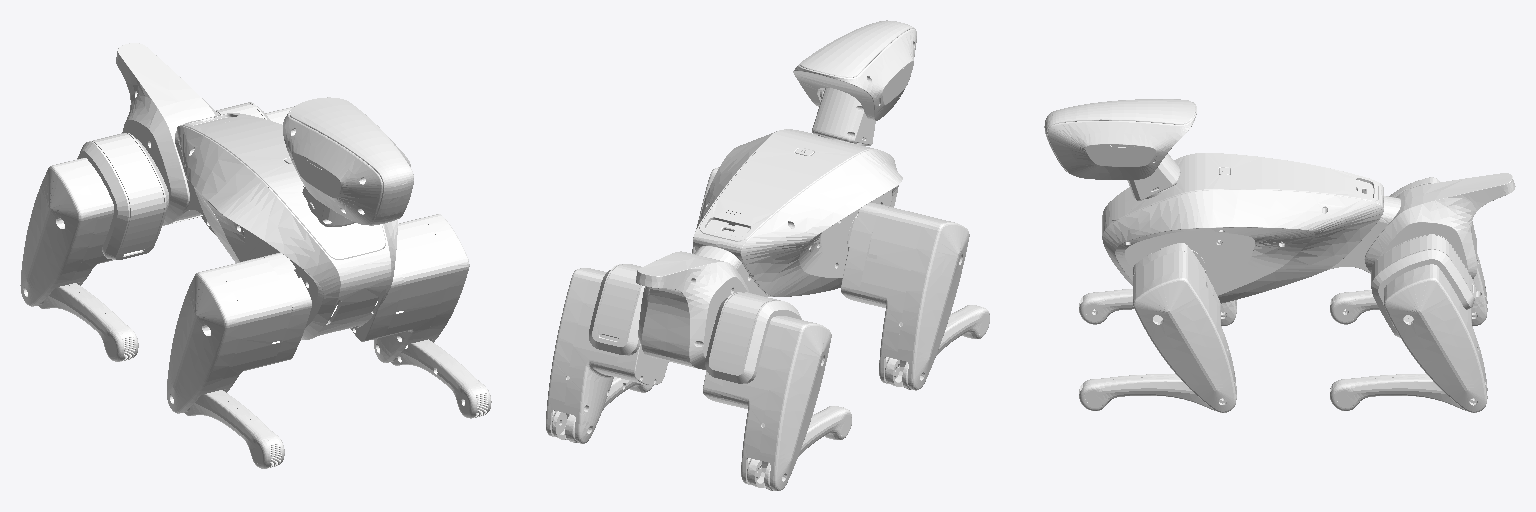
The robot description file, URDF, robot "xrrobot_urdf":
<?xml version="1.0" encoding="utf-8"?>
<!-- This URDF was automatically created by SolidWorks to URDF Exporter! Originally created by Stephen Brawner (brawner@gmail.com) 
     Commit Version: 1.6.0-1-g15f4949  Build Version: 1.6.7594.29634
     For more information, please see http://wiki.ros.org/sw_urdf_exporter -->
<robot
  name="xrrobot_urdf">
  <link
    name="base_link">
    <inertial>
      <origin
        xyz="-4.4622E-05 0.022396 0.035752"
        rpy="0 0 0" />
      <mass
        value="0.2237" />
      <inertia
        ixx="0.001358"
        ixy="1.139E-07"
        ixz="-1.5357E-07"
        iyy="0.0012656"
        iyz="4.9886E-05"
        izz="0.00016835" />
    </inertial>
    <visual>
      <origin
        xyz="0 0 0"
        rpy="0 0 0" />
      <geometry>
        <mesh
          filename="package://xrrobot_urdf/meshes/base_link.STL" />
      </geometry>
      <material
        name="">
        <color
          rgba="1 1 1 1" />
      </material>
    </visual>
    <collision>
      <origin
        xyz="0 0 0"
        rpy="0 0 0" />
      <geometry>
        <mesh
          filename="package://xrrobot_urdf/meshes/base_link.STL" />
      </geometry>
    </collision>
  </link>
  <link
    name="Head_Yaw_link">
    <inertial>
      <origin
        xyz="0.00099935 0.034069 0.017518"
        rpy="0 0 0" />
      <mass
        value="0.020008" />
      <inertia
        ixx="4.5406E-06"
        ixy="5.5818E-09"
        ixz="9.421E-09"
        iyy="2.5723E-06"
        iyz="-4.3346E-07"
        izz="3.182E-06" />
    </inertial>
    <visual>
      <origin
        xyz="0 0 0"
        rpy="0 0 0" />
      <geometry>
        <mesh
          filename="package://xrrobot_urdf/meshes/Head_Yaw_link.STL" />
      </geometry>
      <material
        name="">
        <color
          rgba="1 1 1 1" />
      </material>
    </visual>
    <collision>
      <origin
        xyz="0 0 0"
        rpy="0 0 0" />
      <geometry>
        <mesh
          filename="package://xrrobot_urdf/meshes/Head_Yaw_link.STL" />
      </geometry>
    </collision>
  </link>
  <joint
    name="Head_Yaw_joint"
    type="revolute">
    <origin
      xyz="0 -0.11149 0.038026"
      rpy="1.5708 -0.0022105 0.004335" />
    <parent
      link="base_link" />
    <child
      link="Head_Yaw_link" />
    <axis
      xyz="0 -0.89086 -0.45427" />
    <limit
      lower="-1.57"
      upper="1.57"
      effort="10"
      velocity="5" />
  </joint>
  <link
    name="Head_Pitch_link">
    <inertial>
      <origin
        xyz="0.00050757 0.01521 0.014038"
        rpy="0 0 0" />
      <mass
        value="0.046867" />
      <inertia
        ixx="4.8561E-05"
        ixy="-2.5812E-08"
        ixz="2.4004E-07"
        iyy="4.2536E-05"
        iyz="6.2297E-06"
        izz="1.1693E-05" />
    </inertial>
    <visual>
      <origin
        xyz="0 0 0"
        rpy="0 0 0" />
      <geometry>
        <mesh
          filename="package://xrrobot_urdf/meshes/Head_Pitch_link.STL" />
      </geometry>
      <material
        name="">
        <color
          rgba="1 1 1 1" />
      </material>
    </visual>
    <collision>
      <origin
        xyz="0 0 0"
        rpy="0 0 0" />
      <geometry>
        <mesh
          filename="package://xrrobot_urdf/meshes/Head_Pitch_link.STL" />
      </geometry>
    </collision>
  </link>
  <joint
    name="Head_Pitch_joint"
    type="revolute">
    <origin
      xyz="0 0.044108 0.022492"
      rpy="0.04421 -0.00010192 0.00018941" />
    <parent
      link="Head_Yaw_link" />
    <child
      link="Head_Pitch_link" />
    <axis
      xyz="-0.99999 0.0022105 -0.0043349" />
    <limit
      lower="-1.57"
      upper="1.57"
      effort="10"
      velocity="5" />
  </joint>
  <link
    name="Shoulder_FL_link">
    <inertial>
      <origin
        xyz="0.046894 -0.022185 -0.0050405"
        rpy="0 0 0" />
      <mass
        value="0.058539" />
      <inertia
        ixx="5.8271E-05"
        ixy="1.7661E-06"
        ixz="7.8155E-07"
        iyy="2.723E-05"
        iyz="-1.661E-05"
        izz="3.6507E-05" />
    </inertial>
    <visual>
      <origin
        xyz="0 0 0"
        rpy="0 0 0" />
      <geometry>
        <mesh
          filename="package://xrrobot_urdf/meshes/Shoulder_FL_link.STL" />
      </geometry>
      <material
        name="">
        <color
          rgba="1 1 1 1" />
      </material>
    </visual>
    <collision>
      <origin
        xyz="0 0 0"
        rpy="0 0 0" />
      <geometry>
        <mesh
          filename="package://xrrobot_urdf/meshes/Shoulder_FL_link.STL" />
      </geometry>
    </collision>
  </link>
  <joint
    name="Shoulder_FL_joint"
    type="revolute">
    <origin
      xyz="0.013 -0.10196 0"
      rpy="1.4149 0 0" />
    <parent
      link="base_link" />
    <child
      link="Shoulder_FL_link" />
    <axis
      xyz="-1 0 0" />
    <limit
      lower="-1.57"
      upper="1.57"
      effort="10"
      velocity="5" />
  </joint>
  <link
    name="Knee_FL_link">
    <inertial>
      <origin
        xyz="0.0084814 -0.029397 0.043987"
        rpy="0 0 0" />
      <mass
        value="0.015497" />
      <inertia
        ixx="1.2745E-05"
        ixy="-9.1522E-09"
        ixz="1.405E-08"
        iyy="8.6681E-06"
        iyz="5.4591E-06"
        izz="4.2696E-06" />
    </inertial>
    <visual>
      <origin
        xyz="0 0 0"
        rpy="0 0 0" />
      <geometry>
        <mesh
          filename="package://xrrobot_urdf/meshes/Knee_FL_link.STL" />
      </geometry>
      <material
        name="">
        <color
          rgba="1 1 1 1" />
      </material>
    </visual>
    <collision>
      <origin
        xyz="0 0 0"
        rpy="0 0 0" />
      <geometry>
        <mesh
          filename="package://xrrobot_urdf/meshes/Knee_FL_link.STL" />
      </geometry>
    </collision>
  </link>
  <joint
    name="Knee_FL_joint"
    type="revolute">
    <origin
      xyz="0.051997 -0.070165 -0.039773"
      rpy="-0.47182 0 0" />
    <parent
      link="Shoulder_FL_link" />
    <child
      link="Knee_FL_link" />
    <axis
      xyz="1 0 0" />
    <limit
      lower="-1.57"
      upper="1.57"
      effort="10"
      velocity="5" />
  </joint>
  <link
    name="Shoulder_FR_link">
    <inertial>
      <origin
        xyz="-0.0449236006183859 -0.0224986053538585 -0.00469599283447582"
        rpy="0 0 0" />
      <mass
        value="0.0556031458340423" />
      <inertia
        ixx="5.81147928859559E-05"
        ixy="-1.76677707483314E-06"
        ixz="-7.786838038114E-07"
        iyy="2.70758799340584E-05"
        iyz="-1.65790587552092E-05"
        izz="3.64475444620114E-05" />
    </inertial>
    <visual>
      <origin
        xyz="0 0 0"
        rpy="0 0 0" />
      <geometry>
        <mesh
          filename="package://xrrobot_urdf/meshes/Shoulder_FR_link.STL" />
      </geometry>
      <material
        name="">
        <color
          rgba="1 1 1 1" />
      </material>
    </visual>
    <collision>
      <origin
        xyz="0 0 0"
        rpy="0 0 0" />
      <geometry>
        <mesh
          filename="package://xrrobot_urdf/meshes/Shoulder_FR_link.STL" />
      </geometry>
    </collision>
  </link>
  <joint
    name="Shoulder_FR_joint"
    type="revolute">
    <origin
      xyz="-0.016 -0.10196 0"
      rpy="1.4163 0 0" />
    <parent
      link="base_link" />
    <child
      link="Shoulder_FR_link" />
    <axis
      xyz="1 0 0" />
    <limit
      lower="-1.57"
      upper="1.57"
      effort="10"
      velocity="5" />
  </joint>
  <link
    name="Knee_FR_link">
    <inertial>
      <origin
        xyz="-0.0084817 -0.052906 -0.00022614"
        rpy="0 0 0" />
      <mass
        value="0.015497" />
      <inertia
        ixx="1.2745E-05"
        ixy="1.6569E-08"
        ixz="-1.0757E-10"
        iyy="5.8413E-07"
        iyz="-1.068E-07"
        izz="1.2353E-05" />
    </inertial>
    <visual>
      <origin
        xyz="0 0 0"
        rpy="0 0 0" />
      <geometry>
        <mesh
          filename="package://xrrobot_urdf/meshes/Knee_FR_link.STL" />
      </geometry>
      <material
        name="">
        <color
          rgba="1 1 1 1" />
      </material>
    </visual>
    <collision>
      <origin
        xyz="0 0 0"
        rpy="0 0 0" />
      <geometry>
        <mesh
          filename="package://xrrobot_urdf/meshes/Knee_FR_link.STL" />
      </geometry>
    </collision>
  </link>
  <joint
    name="Knee_FR_joint"
    type="revolute">
    <origin
      xyz="-0.048997 -0.070221 -0.039675"
      rpy="-1.4592 0 0" />
    <parent
      link="Shoulder_FR_link" />
    <child
      link="Knee_FR_link" />
    <axis
      xyz="-1 0 0" />
    <limit
      lower="-1.57"
      upper="1.57"
      effort="10"
      velocity="5" />
  </joint>
  <link
    name="Shoulder_BR_link">
    <inertial>
      <origin
        xyz="-0.041045 -0.014386 0.0098853"
        rpy="0 0 0" />
      <mass
        value="0.071938" />
      <inertia
        ixx="7.3852E-05"
        ixy="-1.8942E-06"
        ixz="4.3529E-07"
        iyy="2.6531E-05"
        iyz="-9.9592E-08"
        izz="5.6669E-05" />
    </inertial>
    <visual>
      <origin
        xyz="0 0 0"
        rpy="0 0 0" />
      <geometry>
        <mesh
          filename="package://xrrobot_urdf/meshes/Shoulder_BR_link.STL" />
      </geometry>
      <material
        name="">
        <color
          rgba="1 1 1 1" />
      </material>
    </visual>
    <collision>
      <origin
        xyz="0 0 0"
        rpy="0 0 0" />
      <geometry>
        <mesh
          filename="package://xrrobot_urdf/meshes/Shoulder_BR_link.STL" />
      </geometry>
    </collision>
  </link>
  <joint
    name="Shoulder_BR_joint"
    type="revolute">
    <origin
      xyz="-0.016 0.078042 0"
      rpy="2.058 0 0" />
    <parent
      link="base_link" />
    <child
      link="Shoulder_BR_link" />
    <axis
      xyz="1 0 0" />
    <limit
      lower="-1.57"
      upper="1.57"
      effort="10"
      velocity="5" />
  </joint>
  <link
    name="Knee_BR_link">
    <inertial>
      <origin
        xyz="-0.0084817 -0.052906 -0.00022614"
        rpy="0 0 0" />
      <mass
        value="0.015497" />
      <inertia
        ixx="1.2745E-05"
        ixy="1.6568E-08"
        ixz="-1.075E-10"
        iyy="5.8413E-07"
        iyz="-1.068E-07"
        izz="1.2353E-05" />
    </inertial>
    <visual>
      <origin
        xyz="0 0 0"
        rpy="0 0 0" />
      <geometry>
        <mesh
          filename="package://xrrobot_urdf/meshes/Knee_BR_link.STL" />
      </geometry>
      <material
        name="">
        <color
          rgba="1 1 1 1" />
      </material>
    </visual>
    <collision>
      <origin
        xyz="0 0 0"
        rpy="0 0 0" />
      <geometry>
        <mesh
          filename="package://xrrobot_urdf/meshes/Knee_BR_link.STL" />
      </geometry>
    </collision>
  </link>
  <joint
    name="Knee_BR_joint"
    type="revolute">
    <origin
      xyz="-0.048997 -0.08 0.01025"
      rpy="-2.1009 0 0" />
    <parent
      link="Shoulder_BR_link" />
    <child
      link="Knee_BR_link" />
    <axis
      xyz="-1 0 0" />
    <limit
      lower="-1.57"
      upper="1.57"
      effort="10"
      velocity="5" />
  </joint>
  <link
    name="Shoulder_BL_link">
    <inertial>
      <origin
        xyz="0 0 0"
        rpy="0 0 0" />
      <mass
        value="0" />
      <inertia
        ixx="0"
        ixy="0"
        ixz="0"
        iyy="0"
        iyz="0"
        izz="0" />
    </inertial>
    <visual>
      <origin
        xyz="0 0 0"
        rpy="0 0 0" />
      <geometry>
        <mesh
          filename="package://xrrobot_urdf/meshes/Shoulder_BL_link.STL" />
      </geometry>
      <material
        name="">
        <color
          rgba="1 1 1 1" />
      </material>
    </visual>
    <collision>
      <origin
        xyz="0 0 0"
        rpy="0 0 0" />
      <geometry>
        <mesh
          filename="package://xrrobot_urdf/meshes/Shoulder_BL_link.STL" />
      </geometry>
    </collision>
  </link>
  <joint
    name="Shoulder_BL_joint"
    type="revolute">
    <origin
      xyz="0.016 0.078042 0"
      rpy="1.3383 0 0" />
    <parent
      link="base_link" />
    <child
      link="Shoulder_BL_link" />
    <axis
      xyz="-1 0 0" />
    <limit
      lower="-1.57"
      upper="1.57"
      effort="10"
      velocity="5" />
  </joint>
  <link
    name="Knee_BL_link">
    <inertial>
      <origin
        xyz="0.0084814 -0.029397 0.043987"
        rpy="0 0 0" />
      <mass
        value="0.015497" />
      <inertia
        ixx="1.2745E-05"
        ixy="-9.1524E-09"
        ixz="1.405E-08"
        iyy="8.6681E-06"
        iyz="5.4591E-06"
        izz="4.2696E-06" />
    </inertial>
    <visual>
      <origin
        xyz="0 0 0"
        rpy="0 0 0" />
      <geometry>
        <mesh
          filename="package://xrrobot_urdf/meshes/Knee_BL_link.STL" />
      </geometry>
      <material
        name="">
        <color
          rgba="1 1 1 1" />
      </material>
    </visual>
    <collision>
      <origin
        xyz="0 0 0"
        rpy="0 0 0" />
      <geometry>
        <mesh
          filename="package://xrrobot_urdf/meshes/Knee_BL_link.STL" />
      </geometry>
    </collision>
  </link>
  <joint
    name="Knee_BL_joint"
    type="revolute">
    <origin
      xyz="0.048997 -0.066917 -0.045025"
      rpy="-0.39524 0 0" />
    <parent
      link="Shoulder_BL_link" />
    <child
      link="Knee_BL_link" />
    <axis
      xyz="1 0 0" />
    <limit
      lower="-1.57"
      upper="1.57"
      effort="10"
      velocity="5" />
  </joint>
</robot>

--- Facts derived from the render (not from the file) ---
Views: 3 orthographic renders of the robot side by side, from view 1: azimuth 30°, elevation 25°; view 2: azimuth 150°, elevation 25°; view 3: azimuth 270°, elevation 25°.
Robot: xrrobot_urdf — 11 links, 10 joints (10 revolute); root link base_link; default pose: all joints at 0.
Links seen in each view (by area): view 1: base_link, Shoulder_BR_link, Shoulder_FR_link, Head_Pitch_link, Shoulder_FL_link, Knee_FR_link, Knee_FL_link, Knee_BR_link, Head_Yaw_link, Shoulder_BL_link; view 2: base_link, Shoulder_BR_link, Shoulder_FR_link, Shoulder_BL_link, Head_Pitch_link, Head_Yaw_link, Knee_BR_link, Knee_FR_link, Knee_BL_link; view 3: base_link, Shoulder_BL_link, Shoulder_FL_link, Head_Pitch_link, Knee_FL_link, Knee_BL_link, Knee_FR_link, Head_Yaw_link, Knee_BR_link, Shoulder_BR_link.
Link boxes in pixels (left/top/right/bottom): base_link: left=116, top=43, right=397, bottom=339; Shoulder_BR_link: left=20, top=133, right=168, bottom=306; Shoulder_FR_link: left=167, top=252, right=311, bottom=413; Head_Pitch_link: left=283, top=97, right=413, bottom=225; Shoulder_FL_link: left=350, top=214, right=469, bottom=362; Knee_FR_link: left=184, top=390, right=284, bottom=468; Knee_FL_link: left=391, top=339, right=491, bottom=418; Knee_BR_link: left=38, top=283, right=138, bottom=361; Head_Yaw_link: left=302, top=186, right=355, bottom=226; Shoulder_BL_link: left=202, top=102, right=292, bottom=234; base_link: left=636, top=129, right=902, bottom=369; Shoulder_BR_link: left=703, top=292, right=831, bottom=490; Shoulder_FR_link: left=841, top=203, right=969, bottom=390; Shoulder_BL_link: left=546, top=264, right=668, bottom=443; Head_Pitch_link: left=793, top=20, right=916, bottom=120; Head_Yaw_link: left=812, top=88, right=875, bottom=145; Knee_BR_link: left=747, top=406, right=851, bottom=490; Knee_FR_link: left=885, top=305, right=989, bottom=389; Knee_BL_link: left=552, top=377, right=653, bottom=442; base_link: left=1102, top=153, right=1515, bottom=303; Shoulder_BL_link: left=1371, top=234, right=1486, bottom=412; Shoulder_FL_link: left=1133, top=243, right=1235, bottom=412; Head_Pitch_link: left=1044, top=99, right=1196, bottom=179; Knee_FL_link: left=1079, top=374, right=1236, bottom=410; Knee_BL_link: left=1330, top=374, right=1487, bottom=410; Knee_FR_link: left=1079, top=289, right=1236, bottom=324; Head_Yaw_link: left=1127, top=154, right=1180, bottom=200; Knee_BR_link: left=1330, top=290, right=1487, bottom=324; Shoulder_BR_link: left=1389, top=177, right=1486, bottom=325.
Bounding box of the posed robot: 0.1865 × 0.3381 × 0.2049 m (x, y, z).
Meshes: 11 distinct files referenced, 11 mesh visuals loaded (11 binary STL).
